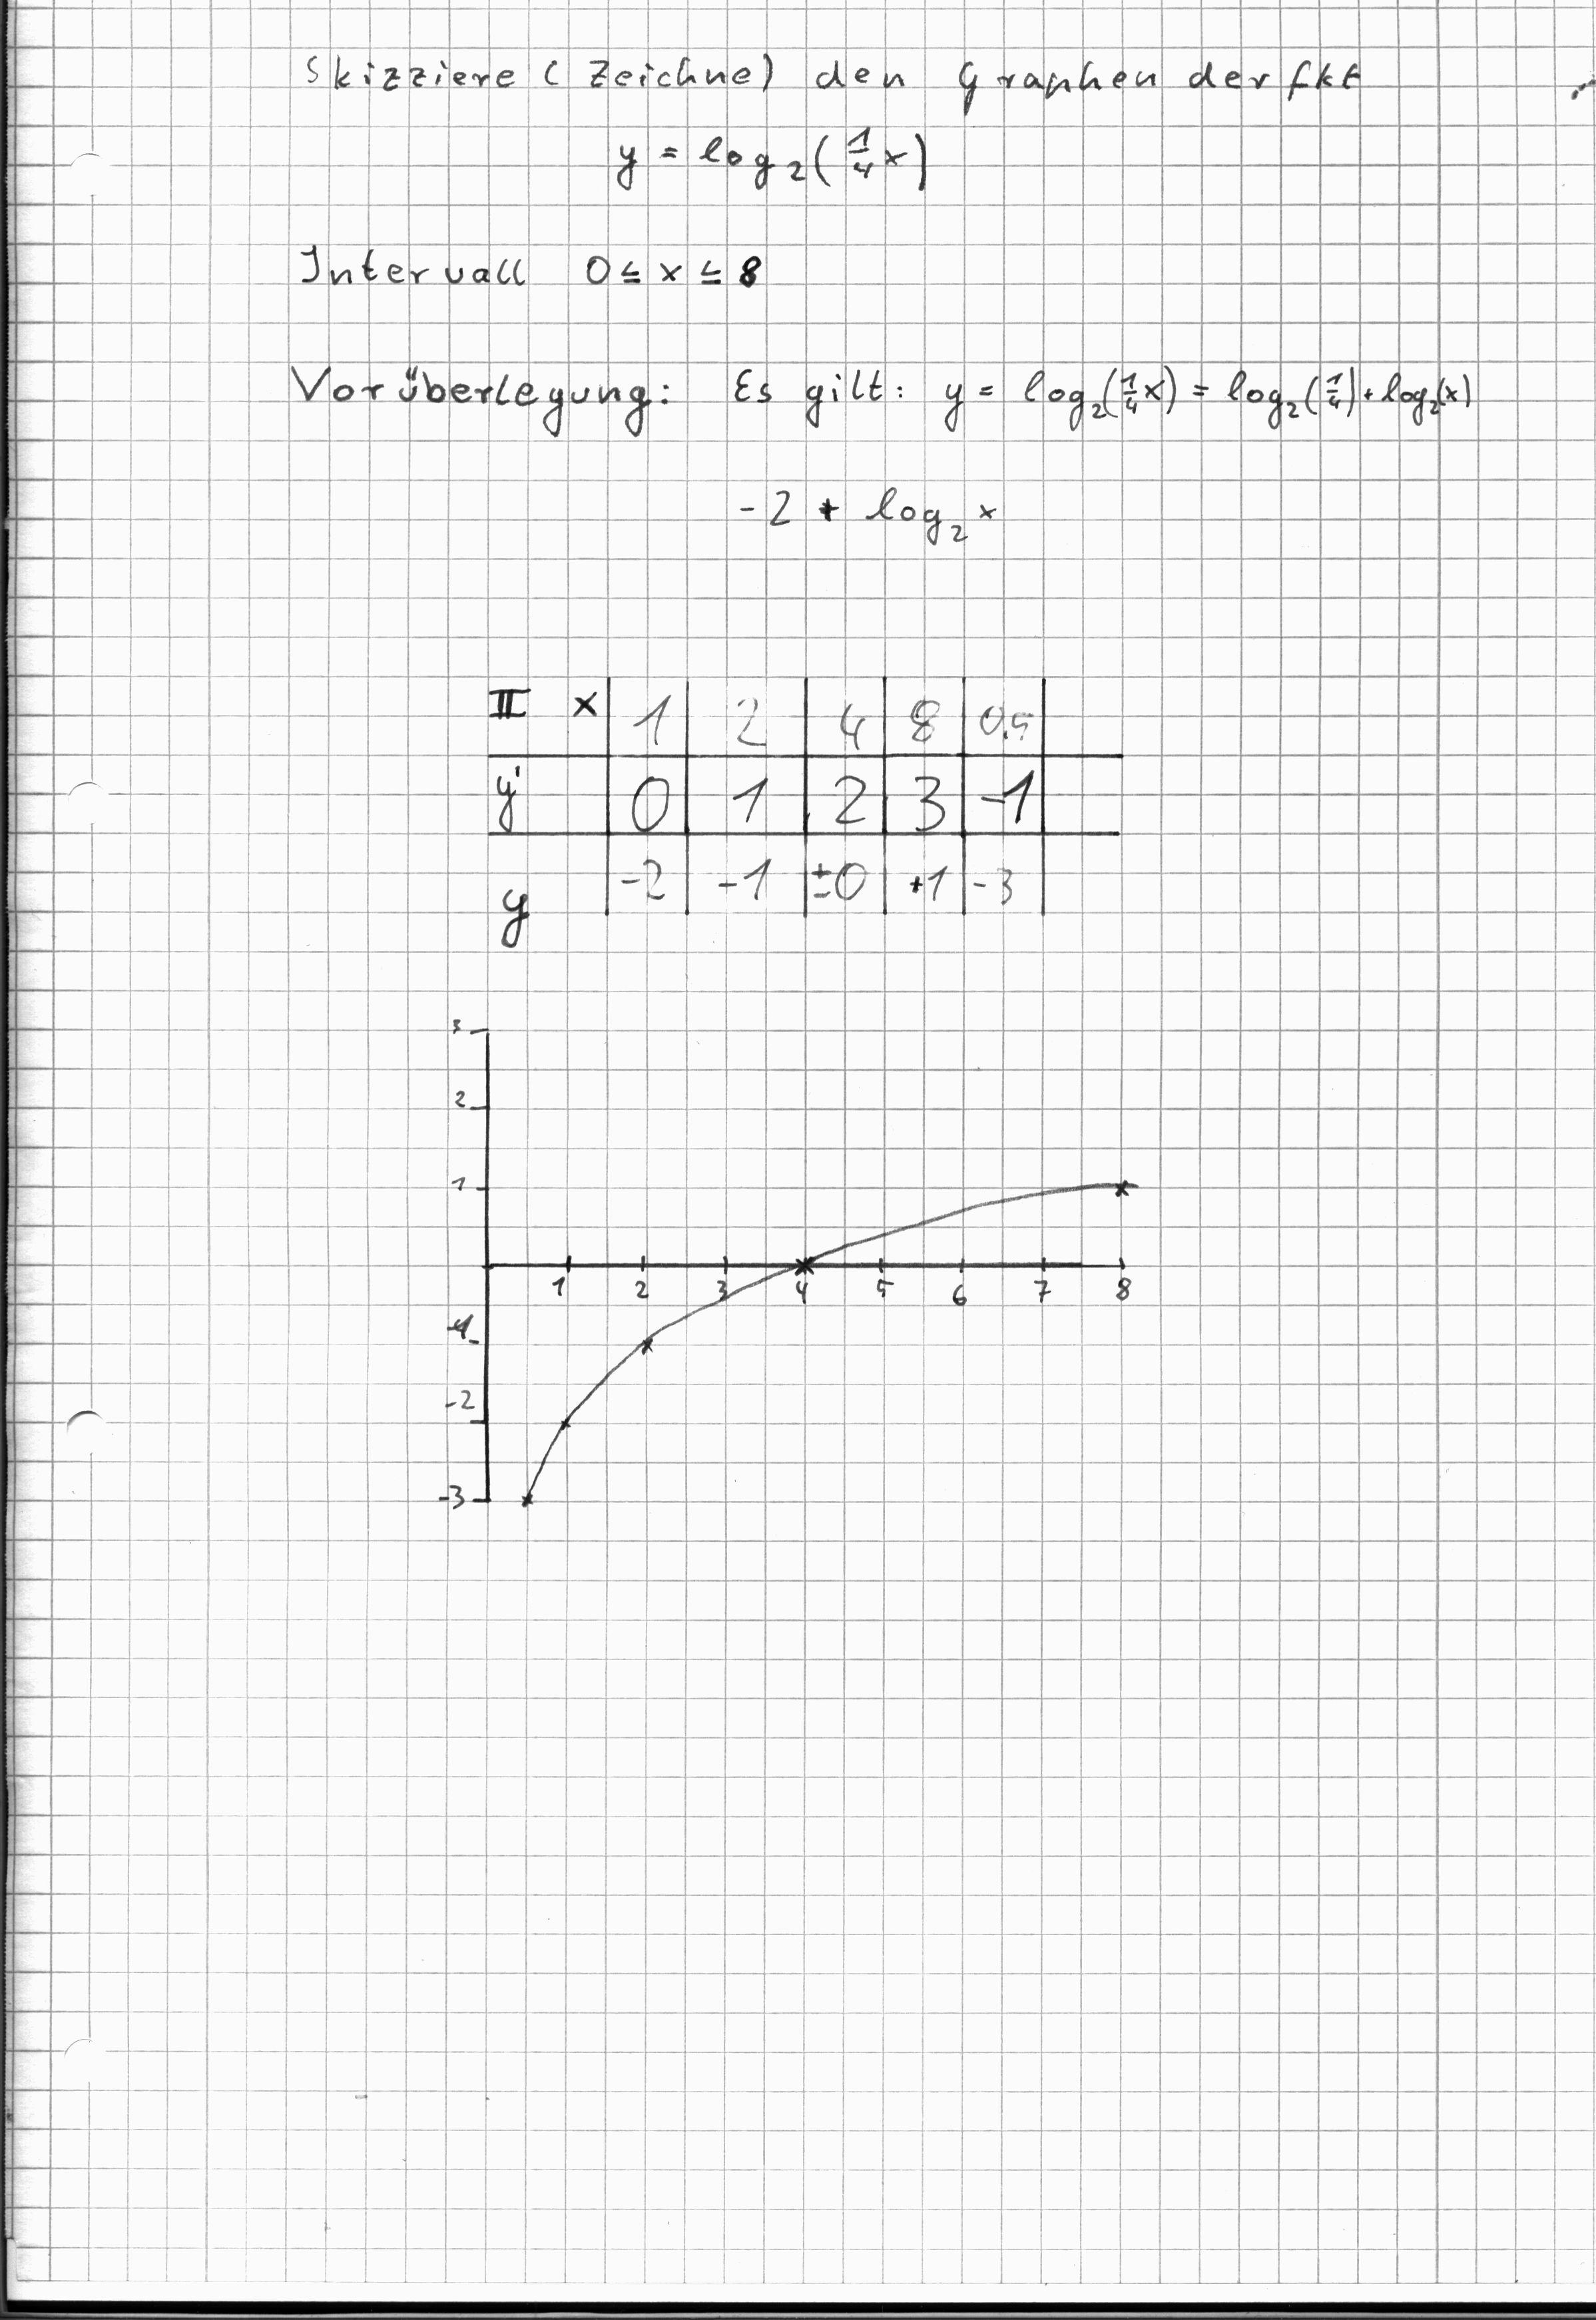word: (289, 26, 1372, 125), (728, 346, 1486, 441), (282, 344, 682, 444), (726, 461, 1025, 575), (584, 117, 940, 205), (270, 225, 539, 306), (578, 228, 782, 305)
